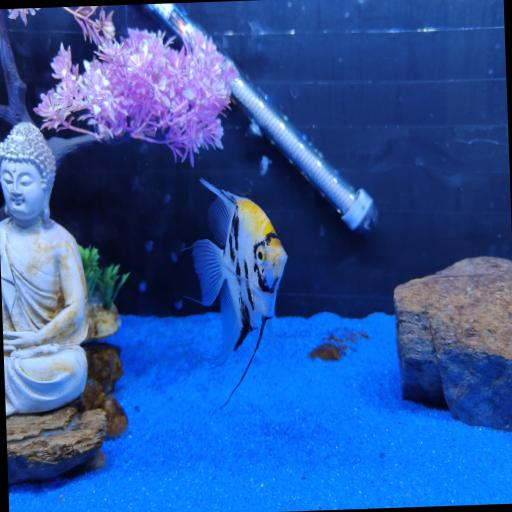Fish: (191, 179, 286, 400)
